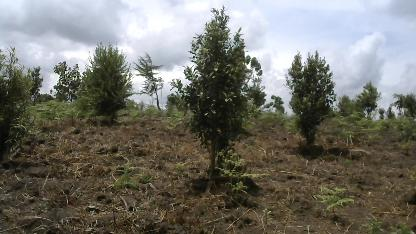tree: (167, 2, 272, 191)
